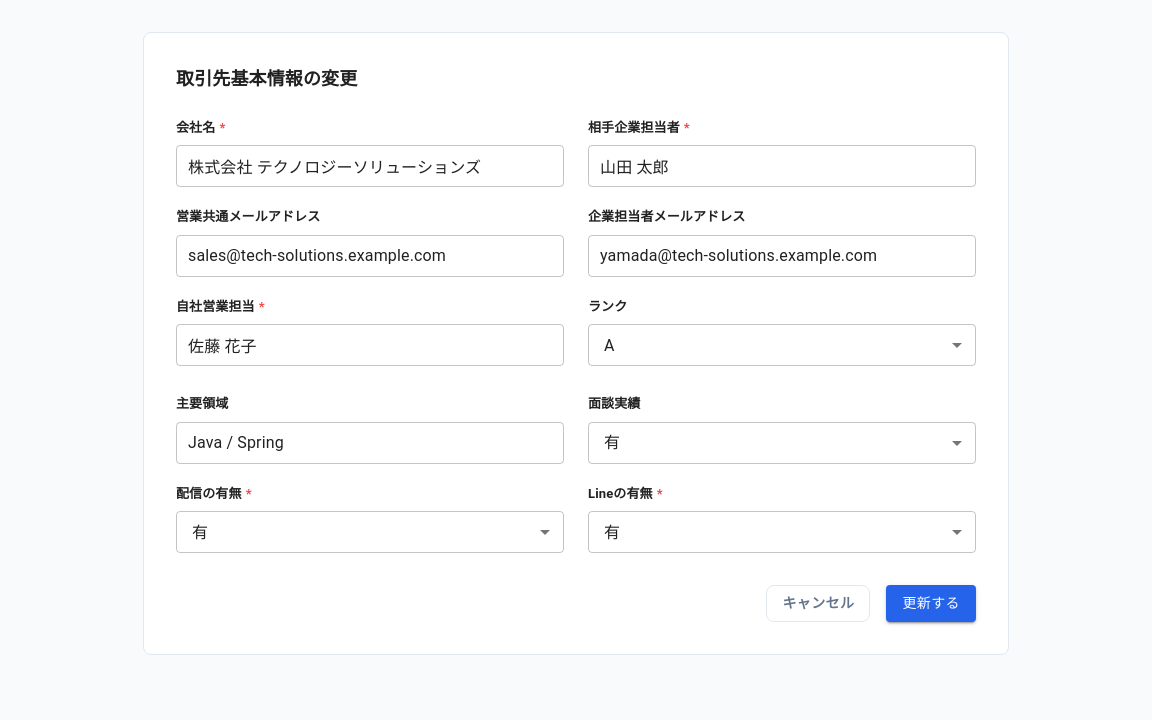
Test: EditCompanyForm › 未入力の項目がある場合はエラーメッセージが表示される
Clear the field with placeholder "株式会社〇〇〇" below "会社名" at (370, 166), box [176, 145, 564, 187]
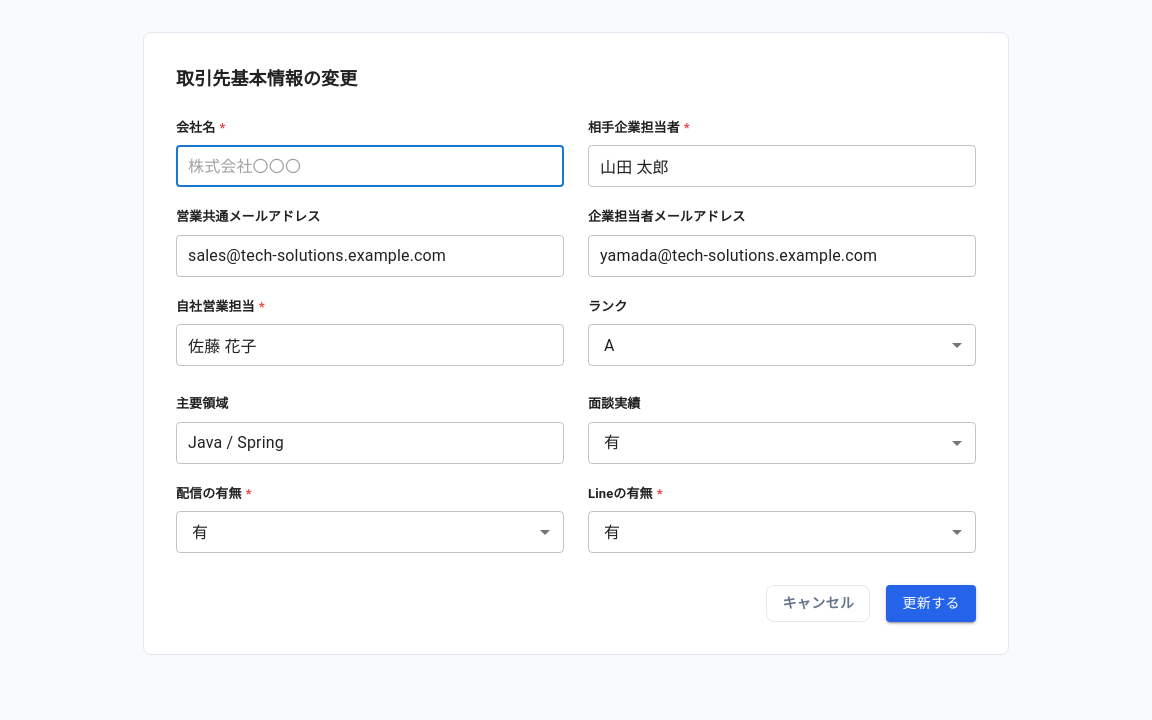
Clear the field with placeholder "山田 太郎" below "相手企業担当者" at (782, 166), box [588, 145, 976, 187]
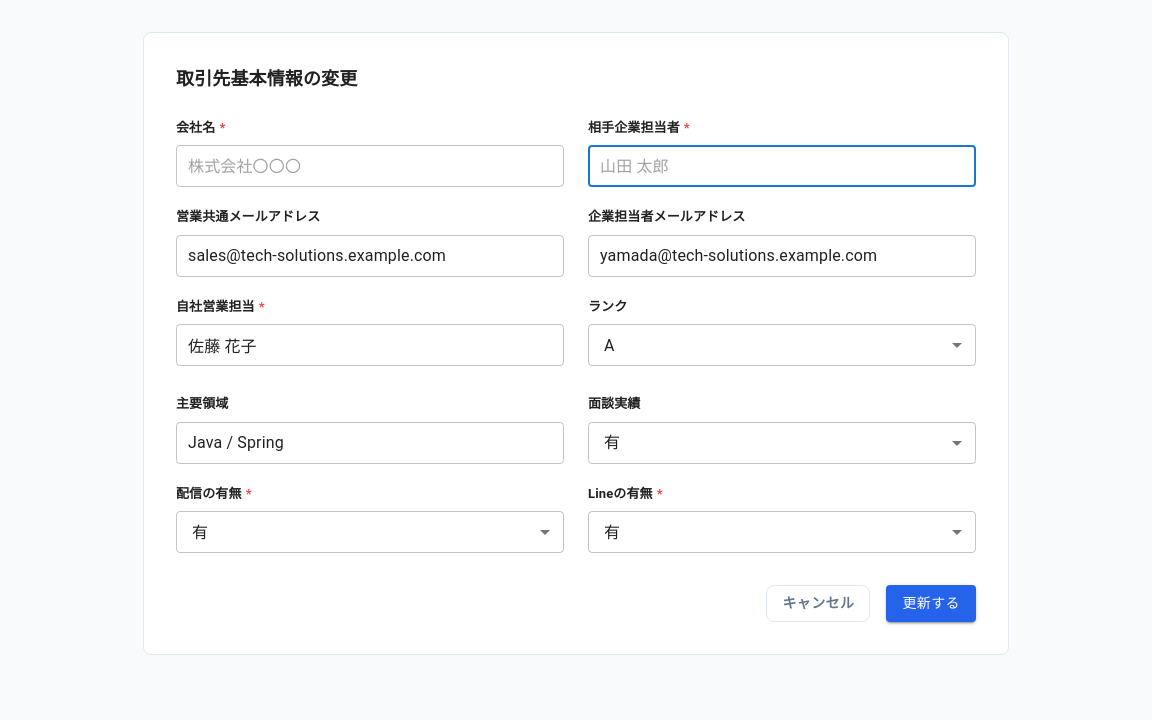
Clear the field with placeholder "山田 花子" below "自社営業担当" at (370, 345), box [176, 324, 564, 366]
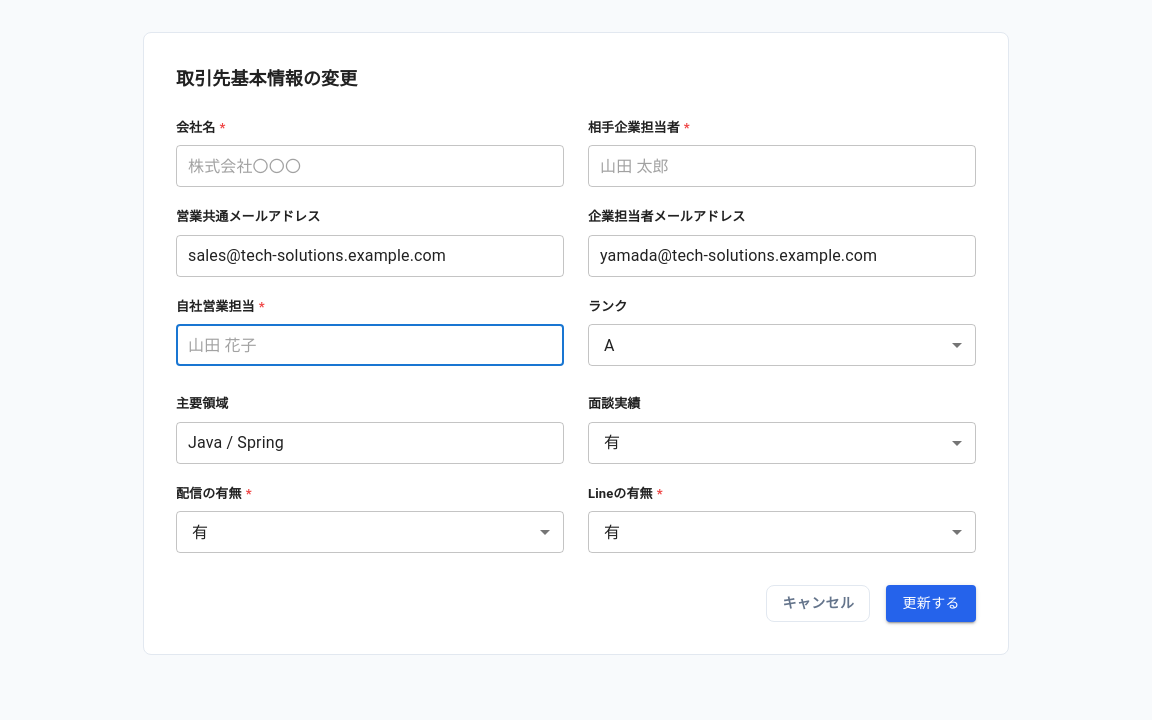
Click the button "更新する" at (931, 604), box [886, 585, 976, 622]
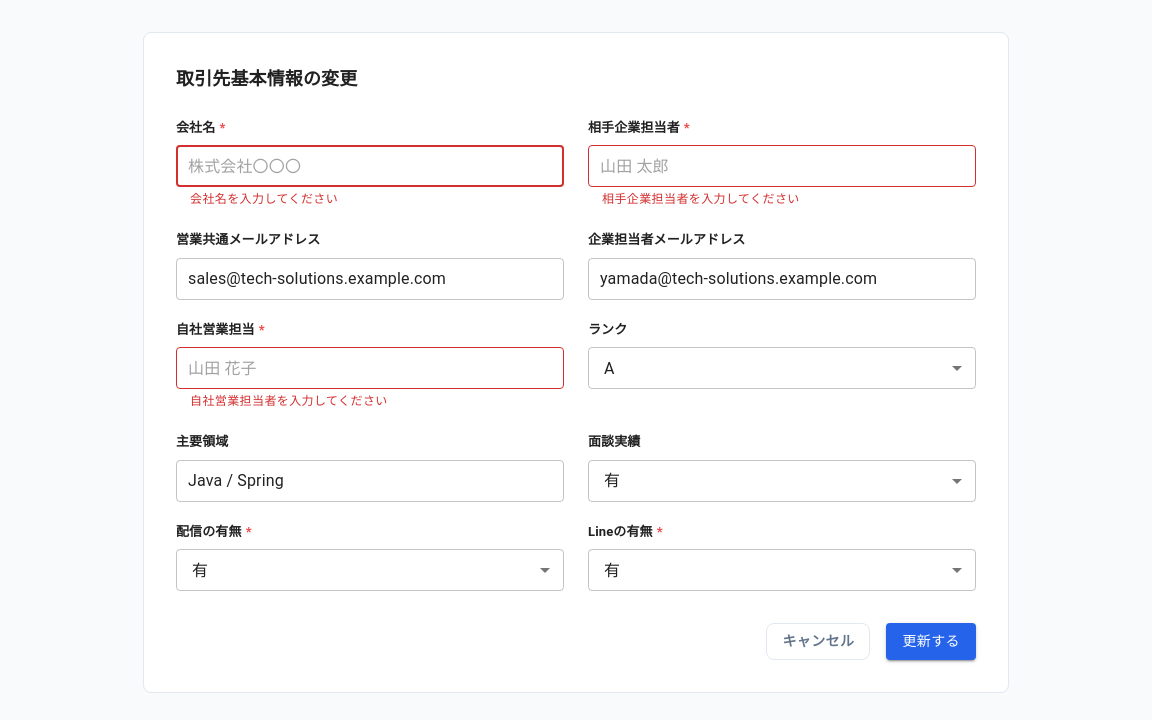
Expected: the text "会社名を入力してください" is shown, [190, 192, 338, 206]
Expected: the text "相手企業担当者を入力してください" is shown, [602, 192, 800, 206]
Expected: the text "自社営業担当者を入力してください" is shown, [190, 394, 388, 408]
